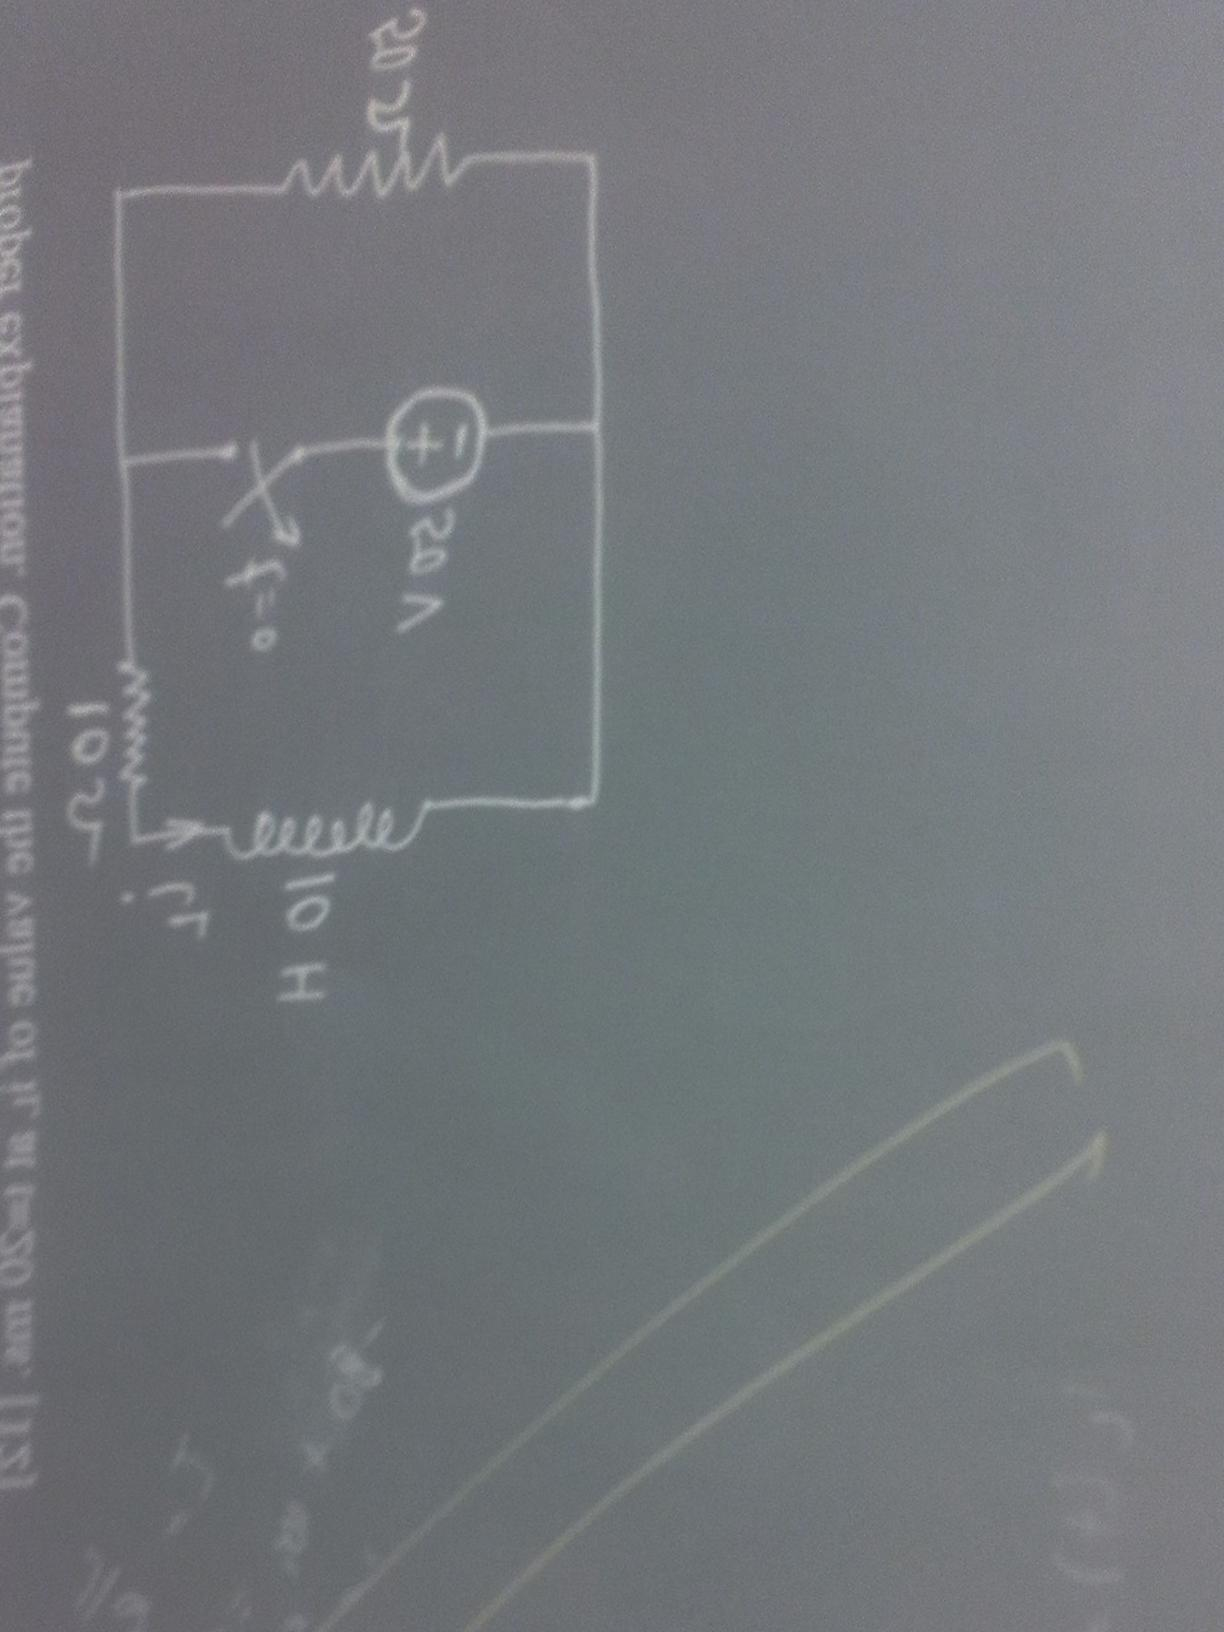Battery: (324, 332, 518, 509)
